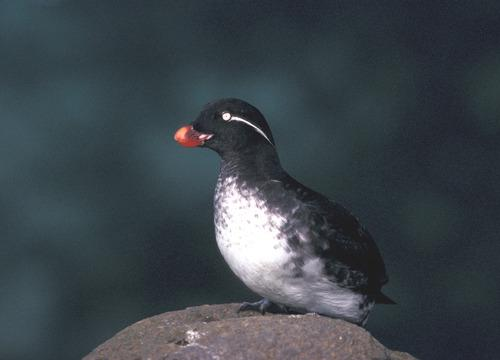007.Parakeet_Auklet: (171, 97, 396, 328)
